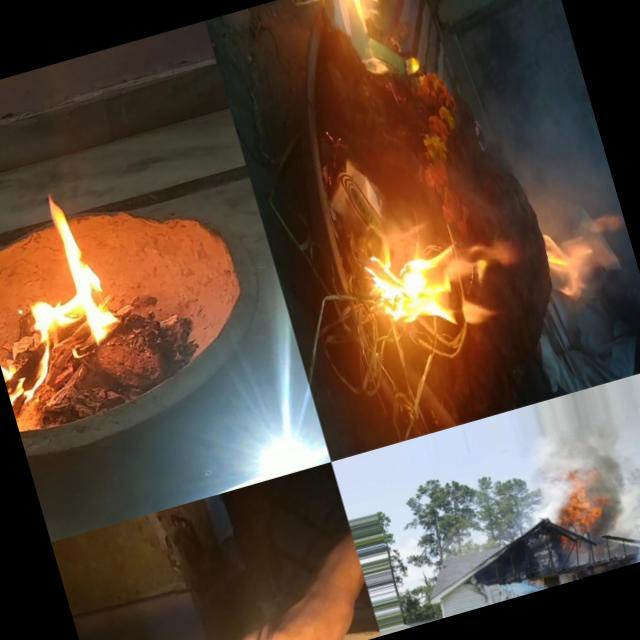fire: (0, 187, 133, 414), (505, 0, 591, 167), (563, 215, 640, 382), (541, 479, 611, 548), (480, 381, 516, 416)
smoke: (431, 0, 600, 336), (569, 416, 640, 539), (531, 444, 580, 496), (624, 511, 640, 563)
